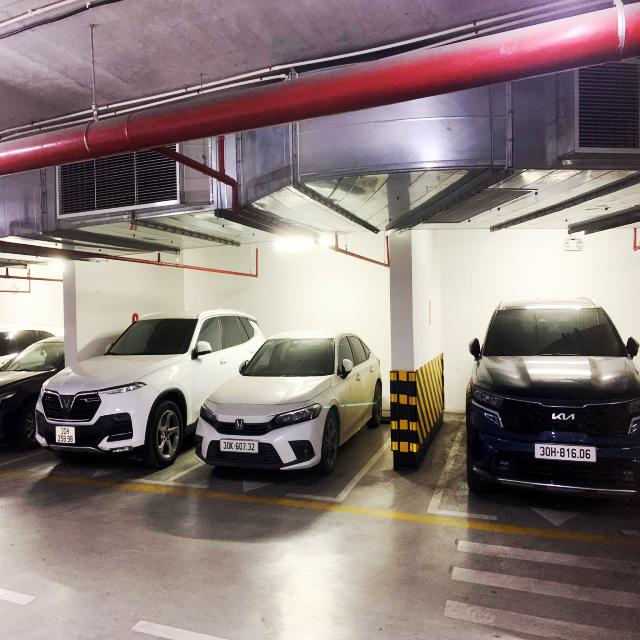license_plate: (535, 443, 599, 464), (220, 439, 260, 455), (56, 427, 77, 445)
